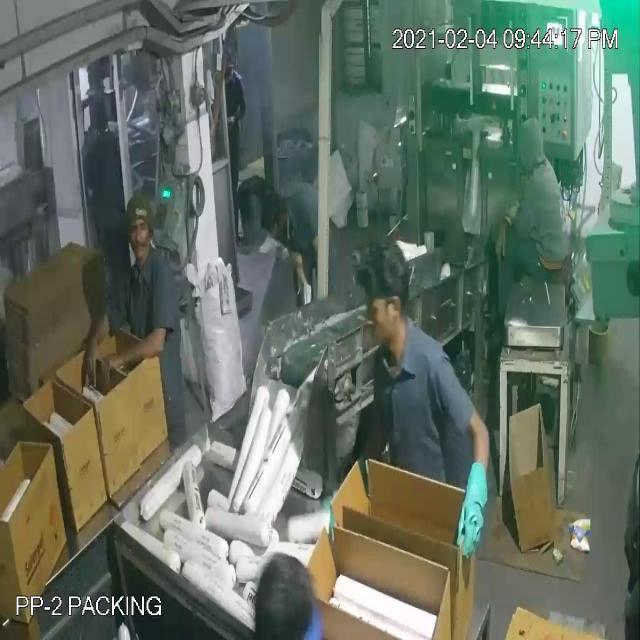No_Gloves: (32, 66, 502, 508)
